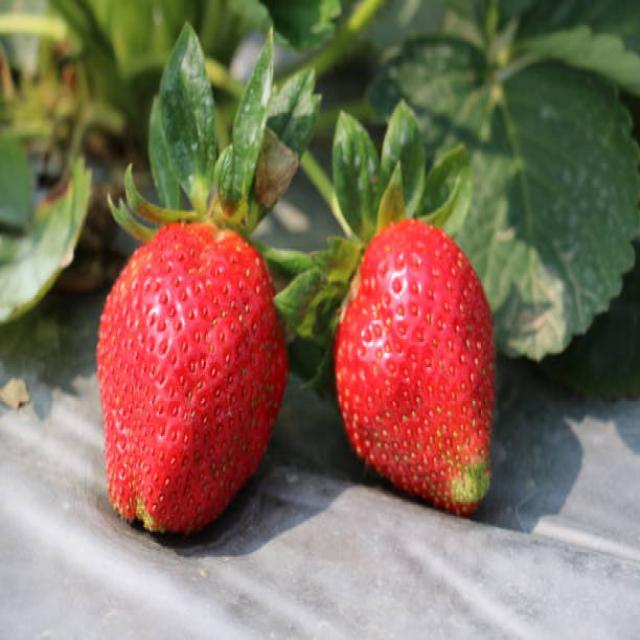Healthy Fruit: (96, 221, 292, 539), (335, 218, 497, 510)
